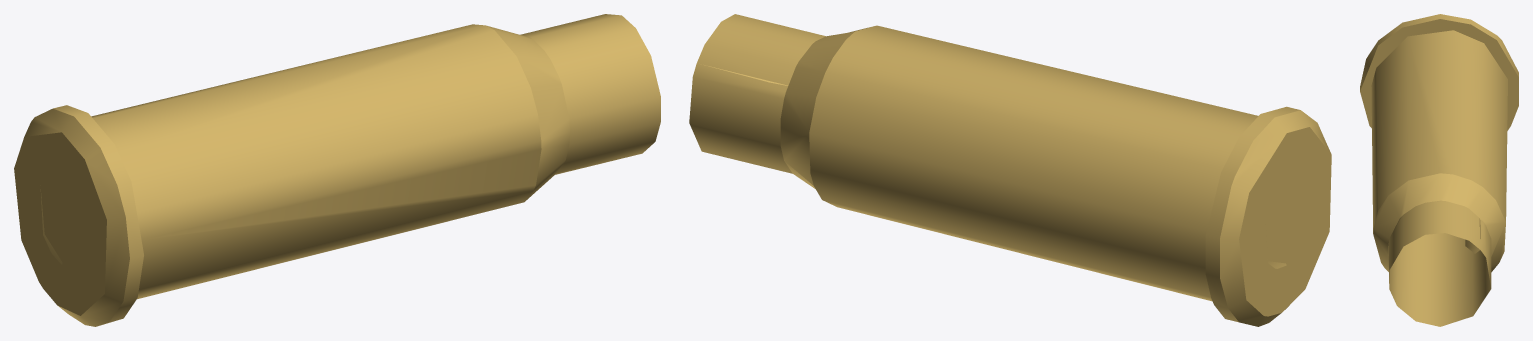
File: p90_BulletShell.fbx
The picture shows the model from 3 angles, left to right: view 1: azimuth 30°, elevation 25°; view 2: azimuth 150°, elevation 25°; view 3: azimuth 270°, elevation 25°; orthographic projection. The views are drawn at different scales.
Visible parts, largest first — view 1: 256 WINCHESTER MAGNUM.005; view 2: 256 WINCHESTER MAGNUM.005; view 3: 256 WINCHESTER MAGNUM.005.
Part boxes in pixels (x1,y1,x2,y2): 256 WINCHESTER MAGNUM.005: (14, 14, 660, 326); 256 WINCHESTER MAGNUM.005: (689, 14, 1331, 326); 256 WINCHESTER MAGNUM.005: (1360, 14, 1518, 326).
Bounding box in the file's own units: 2.15 × 0.7374 × 0.7321.
